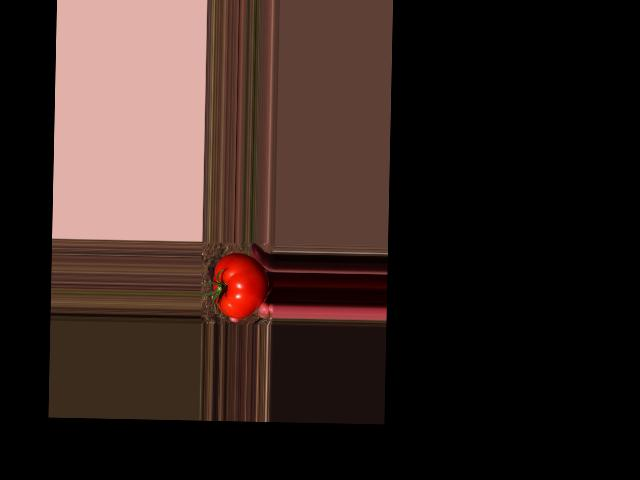tomato: (212, 252, 269, 319)
